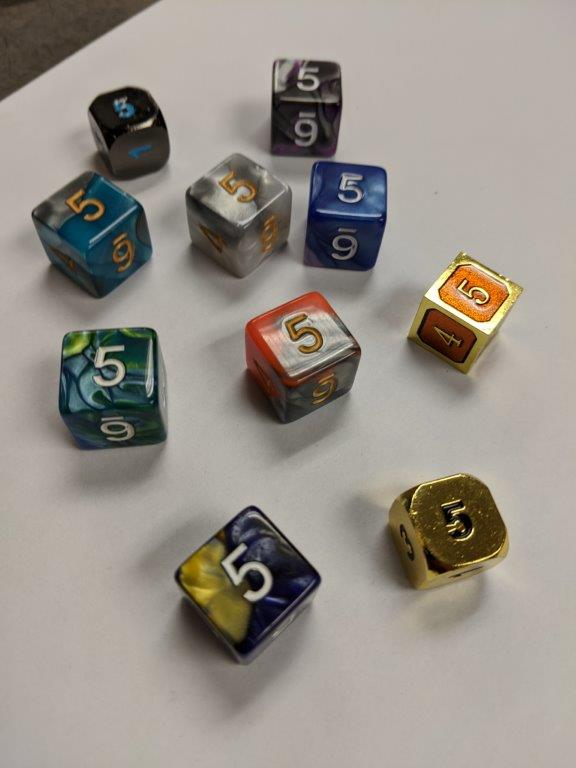d6-5: (172, 506, 324, 674), (387, 473, 514, 595), (33, 171, 153, 300), (245, 293, 363, 424), (406, 249, 521, 376), (58, 323, 168, 453), (186, 152, 291, 281), (303, 158, 388, 275), (89, 86, 170, 180), (272, 57, 341, 156)
